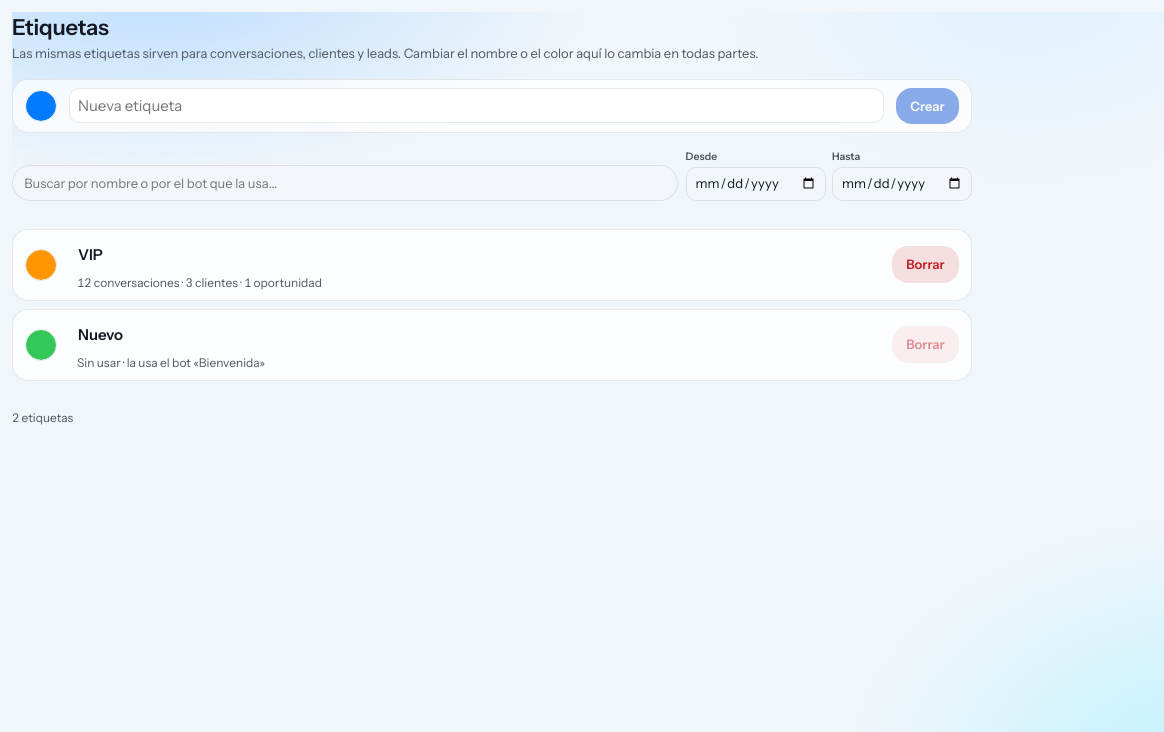
Test: Etiquetas · buscar y paginar › si no coincide ninguna, se dice — y no se confunde con «no hay»
Expected: the field showing "VIP" is shown, left=69, top=238, right=880, bottom=273
In the search field: coordinates (345, 183) left=12, top=166, right=678, bottom=201, type "zzzz"
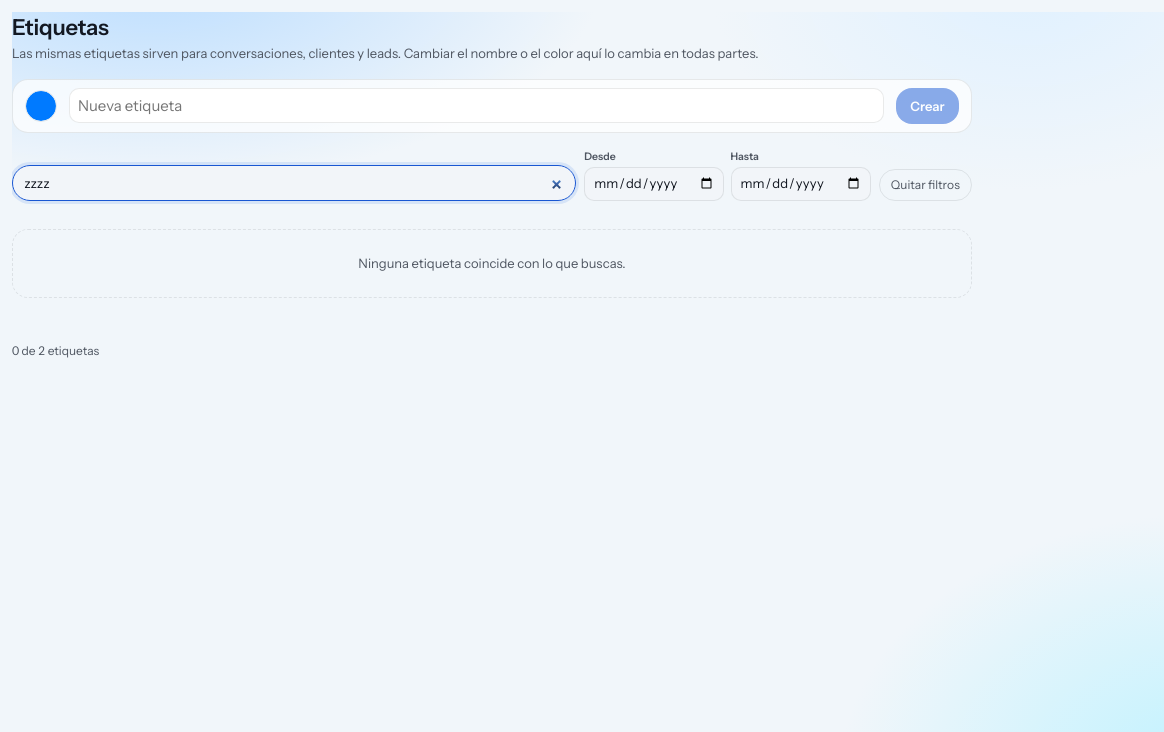
Result: the text "Ninguna etiqueta coincide con lo que buscas." is shown at left=12, top=229, right=972, bottom=298
